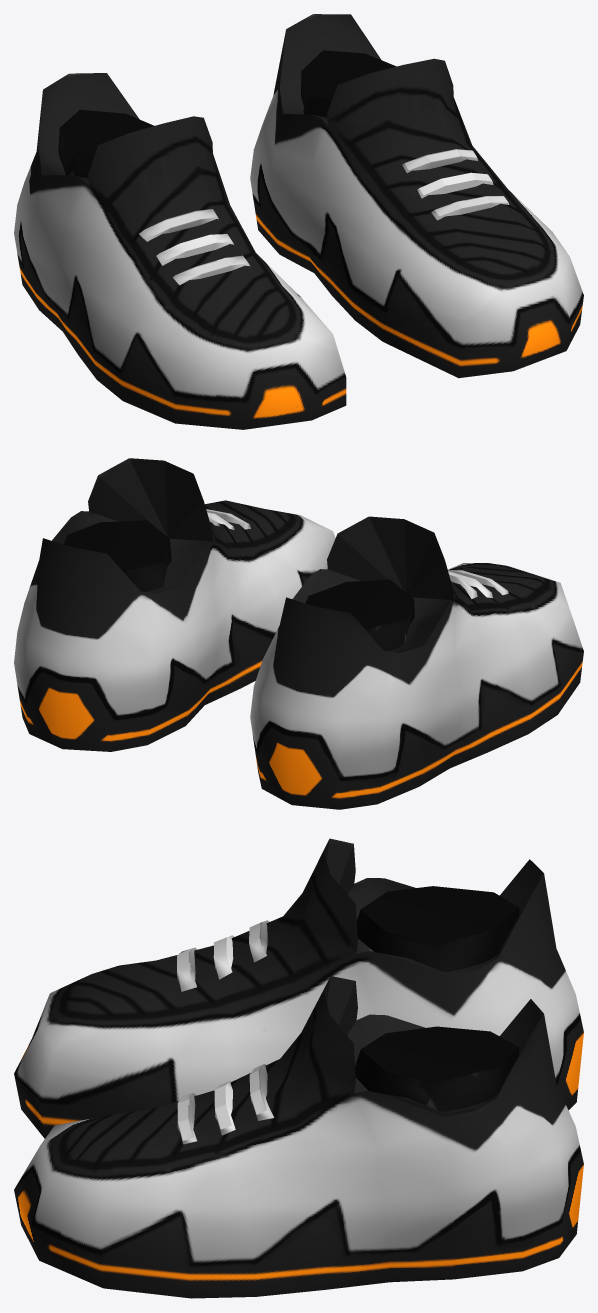
The model's file is M_Feet_Razorblade_Sneakers.glb.
The picture shows the model from 3 angles, top to bottom: view 1: azimuth 30°, elevation 25°; view 2: azimuth 150°, elevation 25°; view 3: azimuth 270°, elevation 25°; orthographic projection. The views are drawn at different scales.
Parts seen in each view (by area): view 1: M_Feet_Razorblade_Sneakers; view 2: M_Feet_Razorblade_Sneakers; view 3: M_Feet_Razorblade_Sneakers.
Part boxes in pixels (x1,y1,x2,y2): M_Feet_Razorblade_Sneakers: [14, 14, 583, 429]; M_Feet_Razorblade_Sneakers: [14, 458, 583, 809]; M_Feet_Razorblade_Sneakers: [14, 838, 583, 1298].
Size of what is drawn, in the model's own units: 1.01 by 0.4697 by 0.9654.
Materials: 1 (1 with a texture image).
